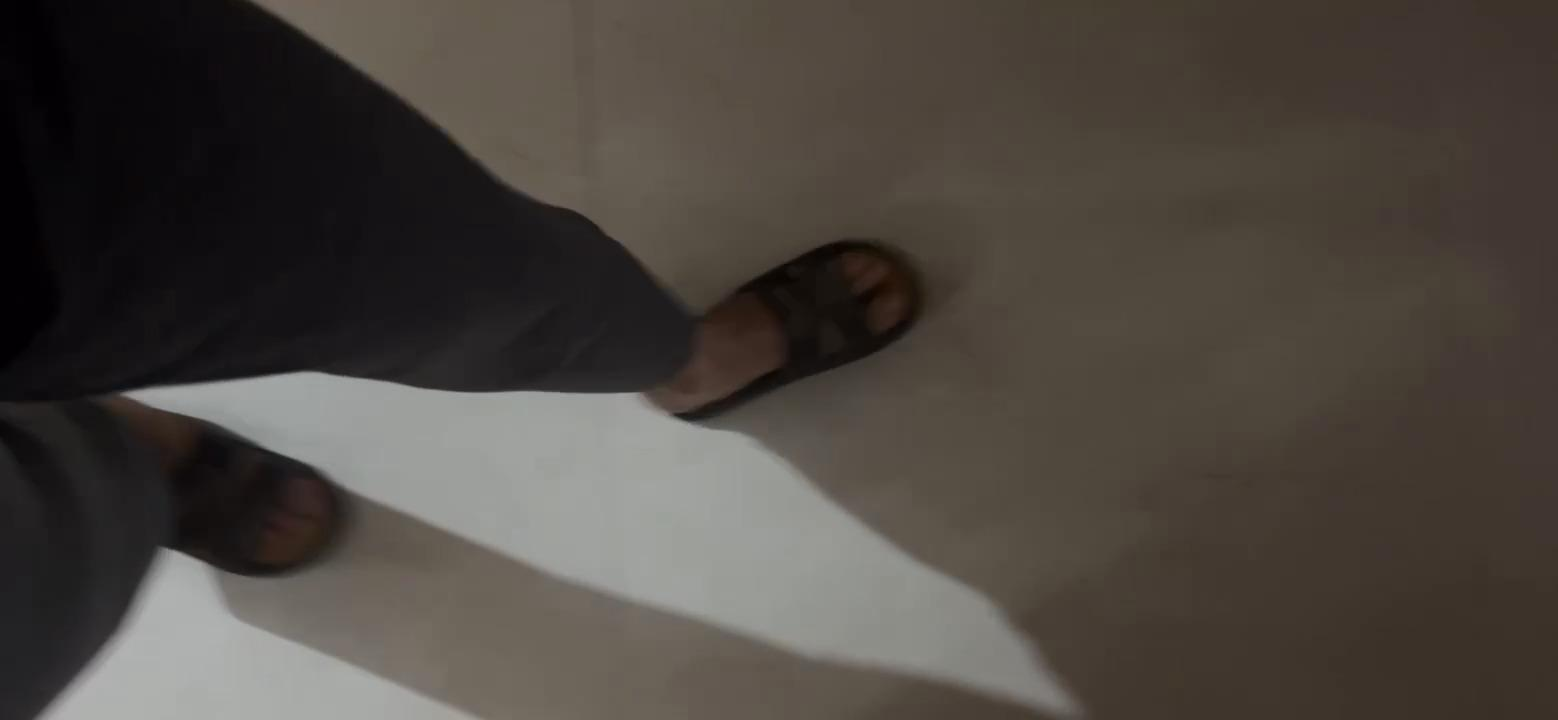no-boot: (653, 211, 916, 417)
